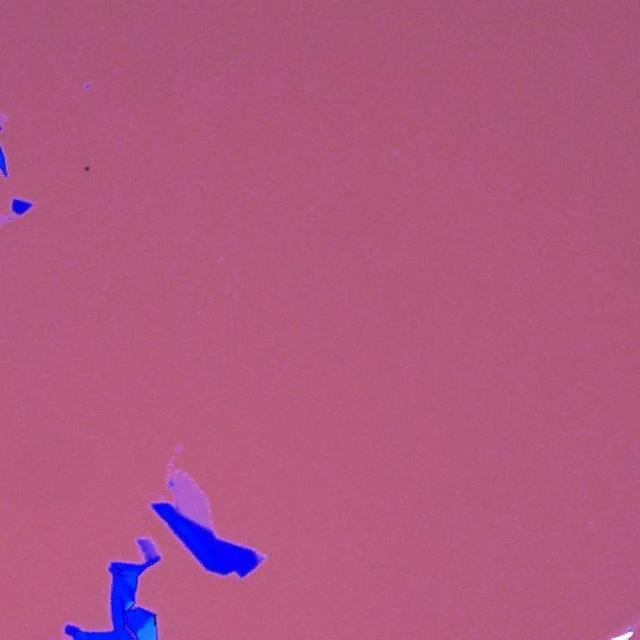monolayer-eWW4: (172, 472, 214, 528)
